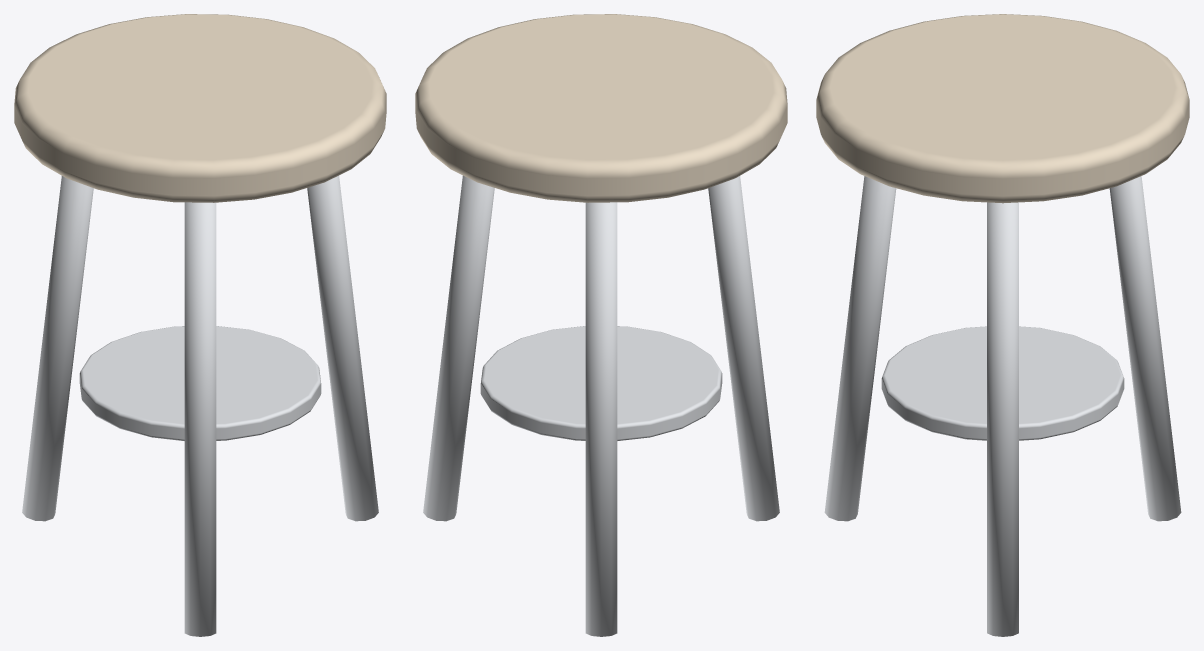
The model's file is stool.glb.
The picture shows the model from 3 angles, left to right: view 1: azimuth 30°, elevation 25°; view 2: azimuth 150°, elevation 25°; view 3: azimuth 270°, elevation 25°; orthographic projection.
Parts seen in each view (by area): view 1: stool; view 2: stool; view 3: stool.
Boxes of the visible parts, <box> form: stool: <box>14,14,386,636</box>; stool: <box>415,14,787,636</box>; stool: <box>816,14,1189,636</box>.
Bounding box in the file's own units: 0.4179 × 0.5521 × 0.4.
